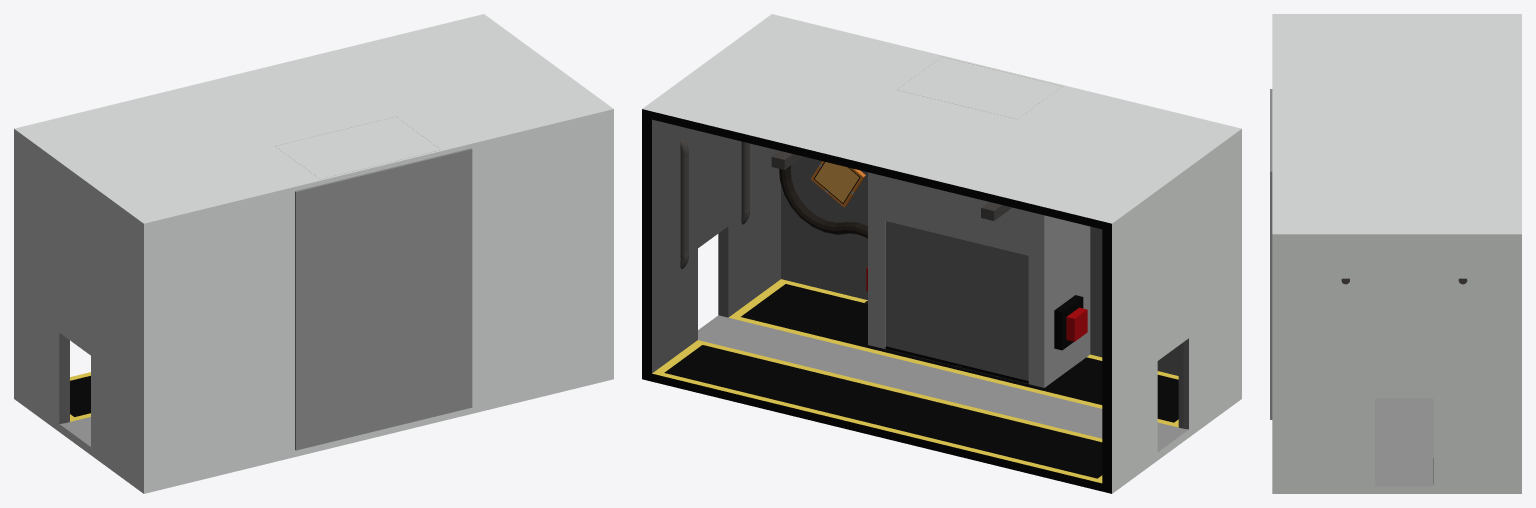
File: EleRoom.fbx
3 views of the same model, side by side, from view 1: azimuth 30°, elevation 25°; view 2: azimuth 150°, elevation 25°; view 3: azimuth 270°, elevation 25° (orthographic). The views are drawn at different scales.
Parts seen in each view (by area): view 1: Ele, Elector; view 2: Ele, DoorEle, Elector, Button.001; view 3: Ele, Elector.
Part boxes in pixels (x1,y1,x2,y2): Ele: (14,14,613,493); Elector: (295,148,472,450); Ele: (642,14,1241,493); DoorEle: (886,221,1028,380); Elector: (868,172,1090,387); Button.001: (1054,295,1087,350); Ele: (1272,14,1521,493); Elector: (1270,89,1272,419).
Size of the model in its own units: 1807 by 995 by 872.
